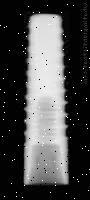AGS Medikal: (20, 11, 69, 185)
